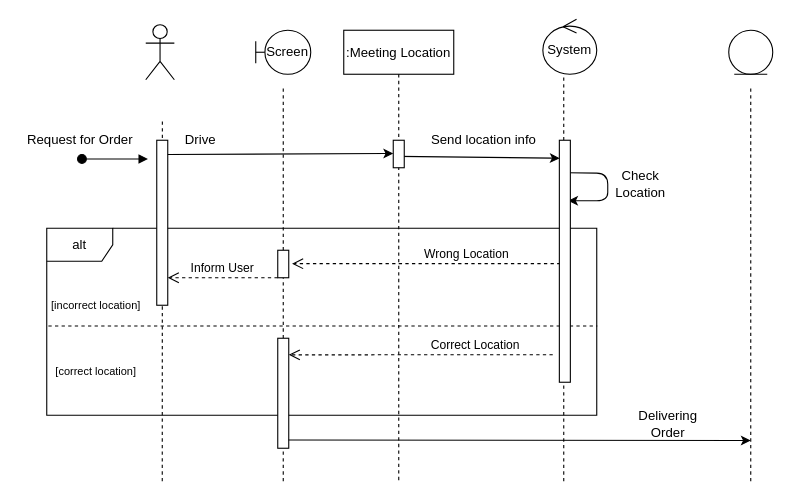
This 792x502 diagram has some shape labels left out. The shapes that lost their labels are listed below. From the top down, each one's centre as x and y in pixels, then its label:
At (x=159, y=52): "UberEats Employee".
At (x=750, y=51): "User".
